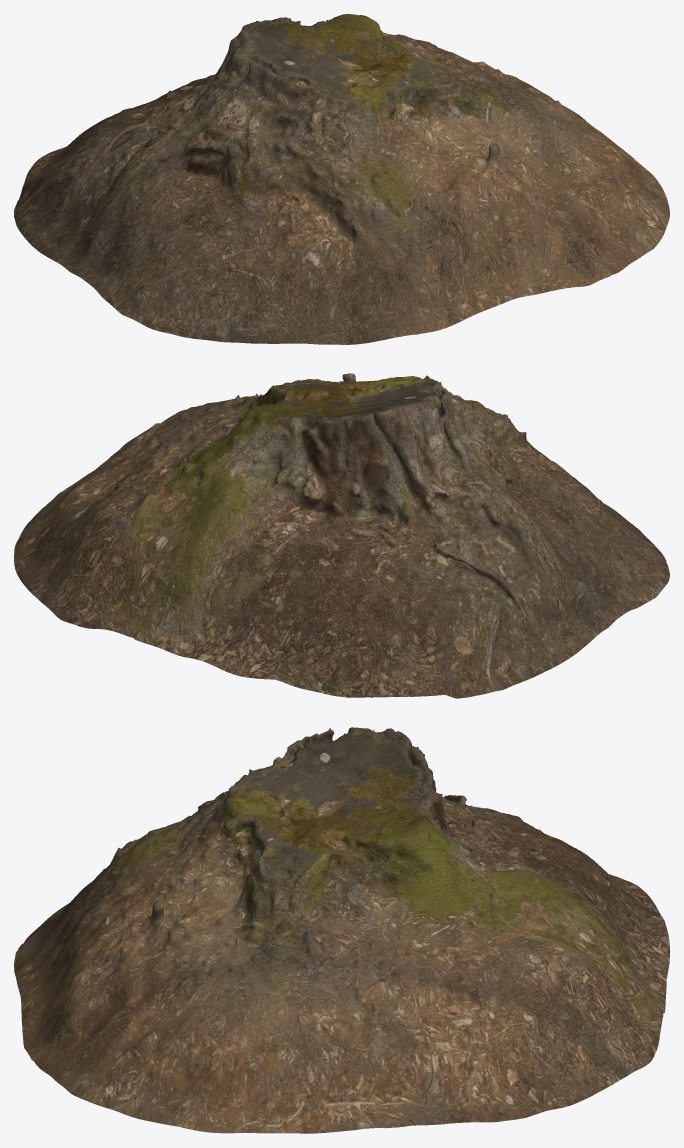
File: tree_stump_02.glb
3 views of the same model, one above another, from view 1: azimuth 30°, elevation 25°; view 2: azimuth 150°, elevation 25°; view 3: azimuth 270°, elevation 25° (orthographic). The views are drawn at different scales.
Visible parts, largest first — view 1: tree_stump_02; view 2: tree_stump_02; view 3: tree_stump_02.
Boxes of the visible parts, x1=… form: tree_stump_02: x1=14, y1=14, x2=669, y2=344; tree_stump_02: x1=14, y1=373, x2=669, y2=698; tree_stump_02: x1=14, y1=727, x2=669, y2=1133.
Bounding box in the file's own units: 1.52 × 0.522 × 1.39.
Materials: 1 (1 with a texture image).
